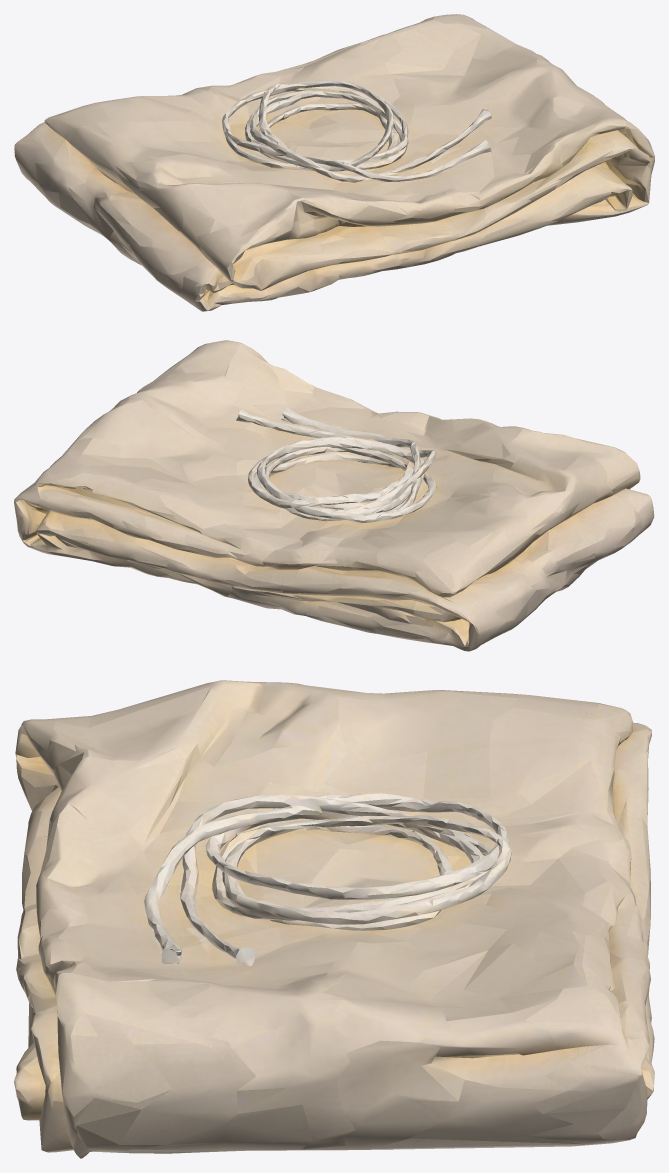
File: w5staffcloth.glb
3 views of the same model, one above another, from view 1: azimuth 30°, elevation 25°; view 2: azimuth 150°, elevation 25°; view 3: azimuth 270°, elevation 25° (orthographic). The views are drawn at different scales.
Parts seen in each view (by area): view 1: output_unwrapped; view 2: output_unwrapped; view 3: output_unwrapped.
Part boxes in pixels (box(x1,y1,x2,y2)): output_unwrapped: box(14, 14, 654, 311); output_unwrapped: box(14, 340, 654, 651); output_unwrapped: box(14, 680, 654, 1158).
Bounding box in the file's own units: 0.6 × 0.1152 × 0.4272.
Materials: 1 (1 with a texture image).
